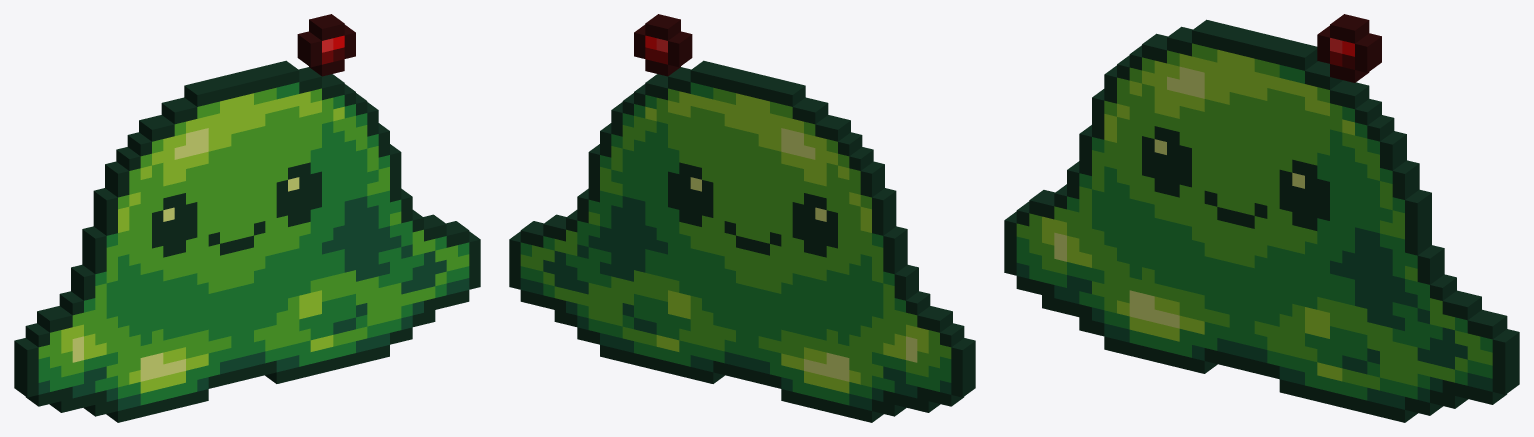
The model's file is Slime_Not_Detected_01.obj.
The picture shows the model from 3 angles, left to right: view 1: azimuth 30°, elevation 25°; view 2: azimuth 150°, elevation 25°; view 3: azimuth 330°, elevation 25°; orthographic projection. The views are drawn at different scales.
Size of the model in its own units: 4 by 2.9 by 0.2.
1 material, 1 textured.
